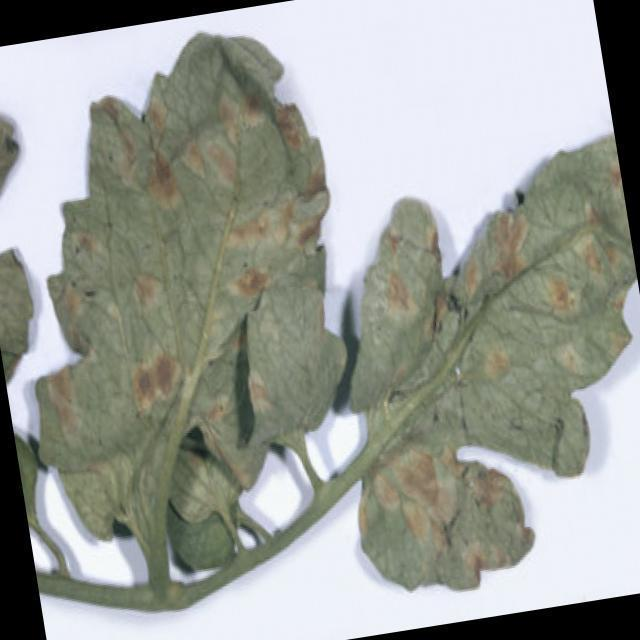Mosaic Virus: (1, 32, 359, 452), (433, 140, 640, 435), (336, 432, 542, 596), (356, 191, 458, 379)
